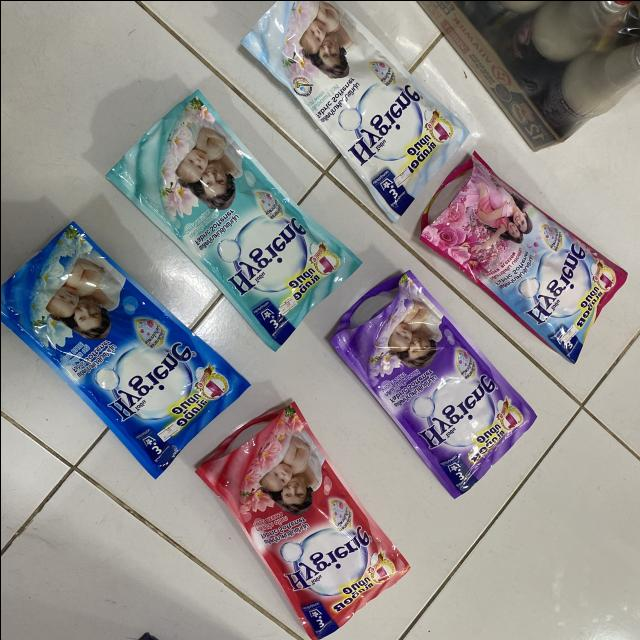plastik: (106, 89, 361, 349), (0, 222, 248, 478), (195, 401, 409, 639), (240, 0, 468, 221), (330, 270, 536, 498), (420, 152, 626, 362)
